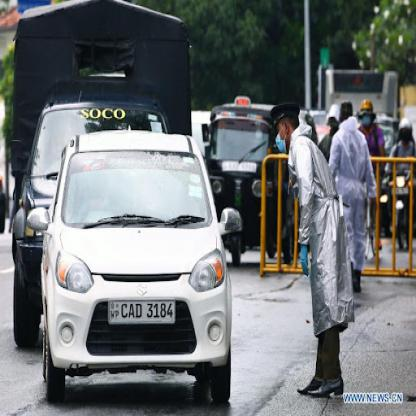car: (28, 124, 243, 408)
